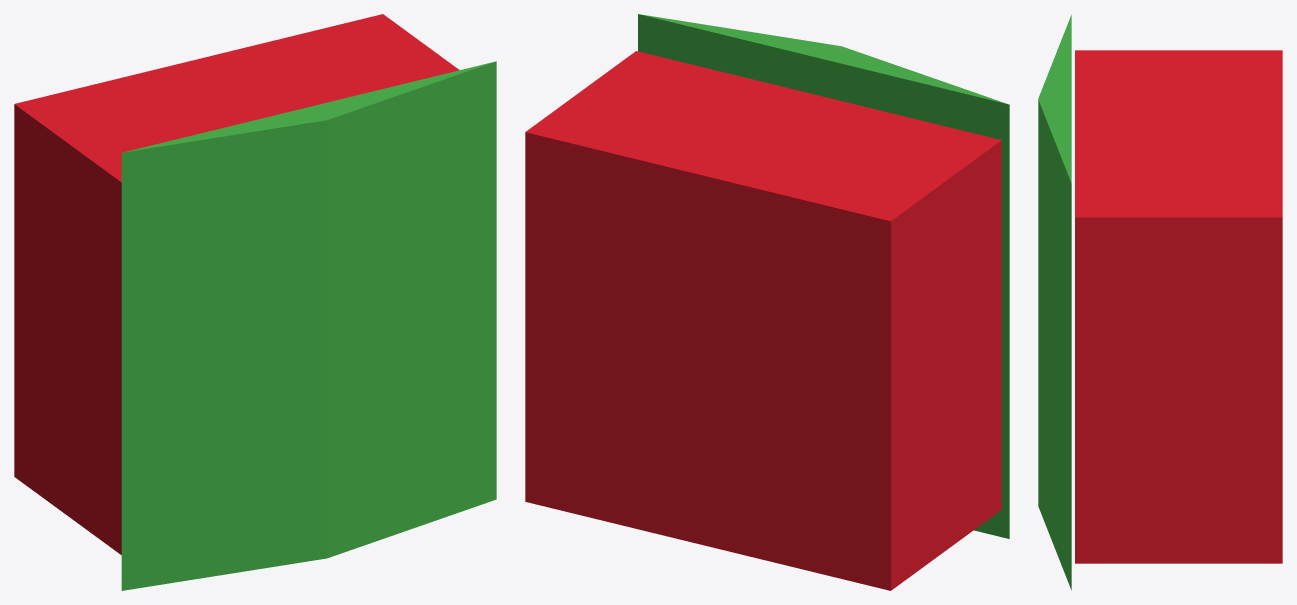
File: tinker.obj
3 renders of one model, left to right at view 1: azimuth 30°, elevation 25°; view 2: azimuth 150°, elevation 25°; view 3: azimuth 270°, elevation 25°, orthographic. The views are drawn at different scales.
Visible parts, largest first — view 1: group_0_4634441, group_0_15277357; view 2: group_0_15277357, group_0_4634441; view 3: group_0_15277357, group_0_4634441.
Boxes of the visible parts, left/top/right/bottom form: group_0_4634441: left=121, top=61, right=496, bottom=590; group_0_15277357: left=14, top=14, right=459, bottom=554; group_0_15277357: left=525, top=51, right=1001, bottom=590; group_0_4634441: left=638, top=14, right=1009, bottom=538; group_0_15277357: left=1075, top=50, right=1282, bottom=563; group_0_4634441: left=1038, top=14, right=1071, bottom=590.
Bounding box in the file's own units: 120 × 134 × 73.
